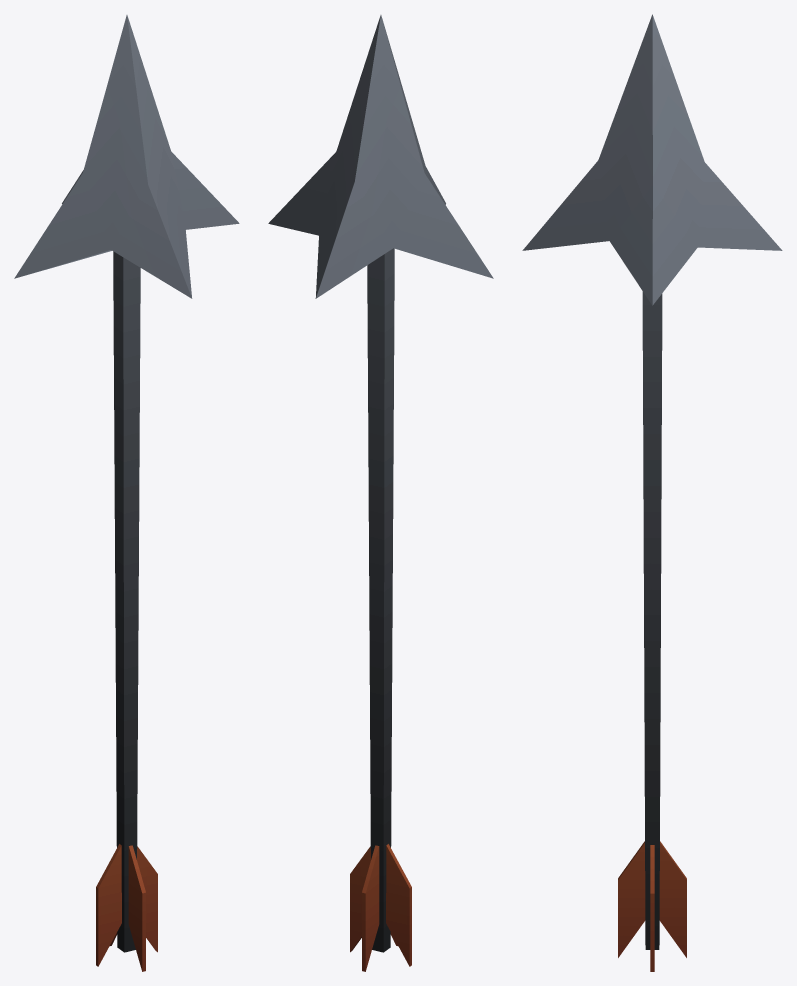
Rendered from Arrow_2.fbx.
3 views of the same model, side by side, from view 1: azimuth 30°, elevation 25°; view 2: azimuth 150°, elevation 25°; view 3: azimuth 270°, elevation 25° (orthographic).
Parts seen in each view (by area): view 1: Arrow_01; view 2: Arrow_01; view 3: Arrow_01.
Boxes of the visible parts, box(x1,y1,x2,y2) form: Arrow_01: box(14, 15, 239, 971); Arrow_01: box(268, 15, 493, 971); Arrow_01: box(522, 14, 782, 971).
Bounding box in the file's own units: 17.74 × 70.88 × 17.74.
